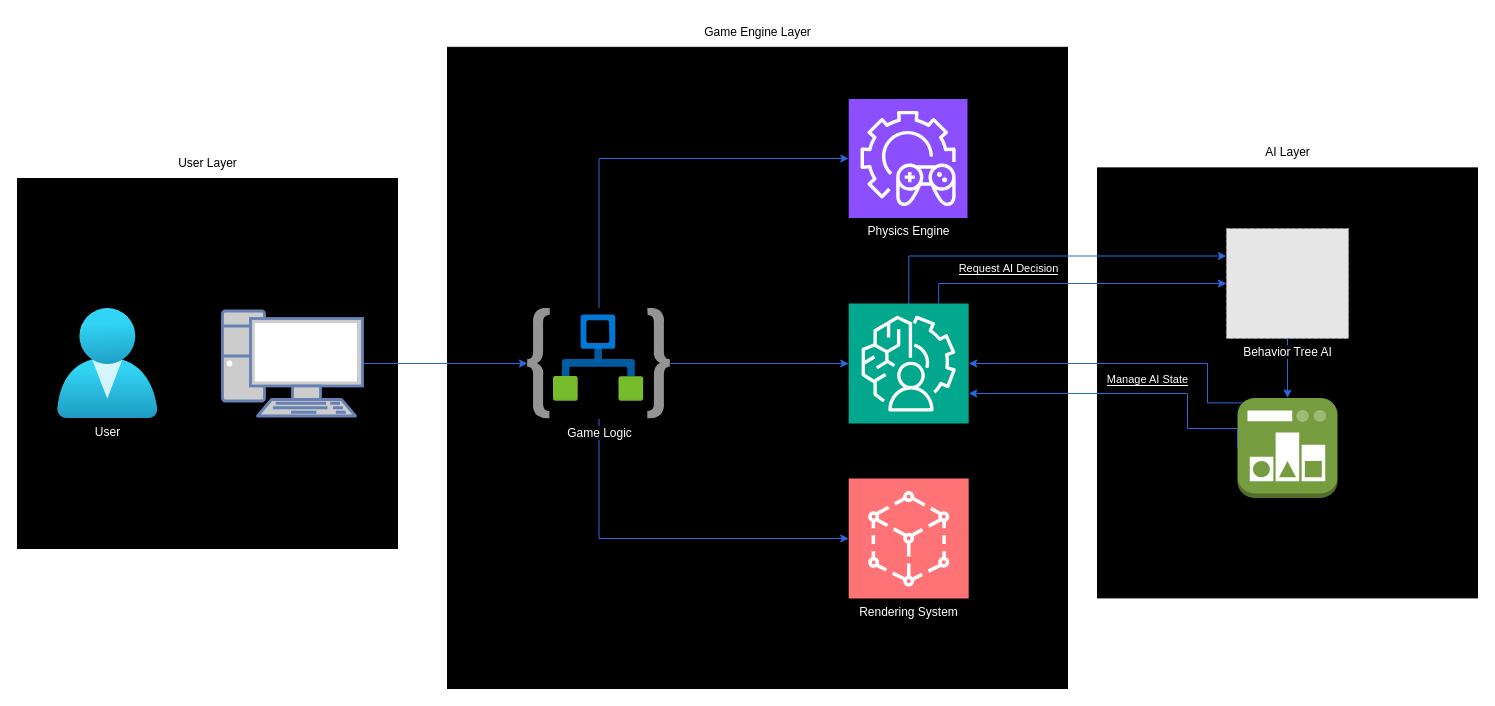
Some shapes in this 1495 by 706 pixel diagram are drawn without their labels. Grey dashed boxes stand in for pictures. The centre of each missing label's shape, as x and y in pixels:
"AI State Manager" belongs at point (1287, 447).
"AI System" belongs at point (908, 363).
"User Input" belongs at point (292, 363).
